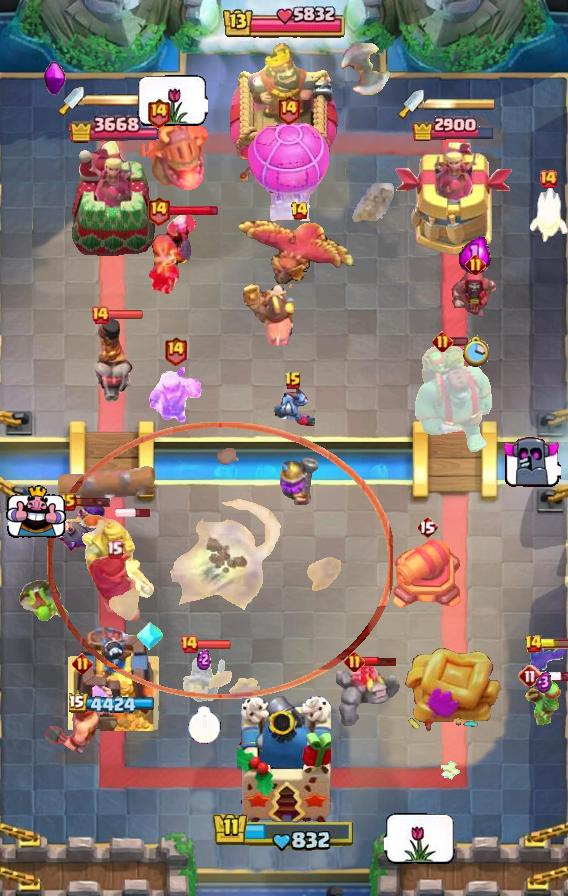axe: (328, 43, 394, 95)
bar: (168, 204, 219, 217), (115, 507, 152, 519), (74, 496, 111, 508), (362, 656, 398, 667), (196, 639, 232, 650), (108, 309, 144, 320), (540, 671, 568, 682), (540, 639, 568, 649), (450, 336, 469, 347)
bar-level: (163, 335, 188, 366), (146, 195, 171, 226), (146, 97, 171, 128), (276, 94, 301, 125), (518, 664, 542, 688), (416, 515, 438, 539), (72, 653, 93, 674), (344, 651, 365, 672), (432, 331, 453, 352), (465, 254, 486, 275), (179, 634, 199, 654), (90, 305, 110, 325), (538, 169, 558, 189), (524, 634, 543, 654), (290, 201, 309, 221), (284, 371, 302, 391), (106, 540, 123, 559), (60, 493, 76, 511)
barbarian-evolution: (148, 367, 203, 424)
bat-evolution: (522, 644, 568, 682)
bomber-evolution: (57, 500, 107, 554)
clock: (188, 706, 221, 744), (462, 335, 489, 368)
dagger-duchess-tower: (394, 142, 513, 256), (70, 138, 158, 256)
dagger-duchess-tower-bar: (424, 97, 496, 111), (84, 93, 156, 107)
dirt: (352, 183, 394, 229)
elixir: (459, 235, 491, 274), (536, 671, 552, 693), (197, 648, 211, 670)
emote: (384, 812, 456, 864), (136, 74, 208, 126), (6, 485, 66, 539), (501, 435, 561, 488)
evolution-symbol: (42, 61, 68, 95)
goblin-ball: (17, 577, 71, 625)
golemite: (335, 665, 401, 727)
guard: (181, 649, 227, 705)
ice-spirit: (528, 185, 568, 243)
ice-spirit-evolution-symbol: (135, 621, 165, 651)
king-tower: (230, 43, 338, 181), (237, 696, 331, 826)
king-tower-bar: (212, 811, 356, 853), (221, 3, 347, 43)
lumberjack: (45, 677, 119, 759)
minion: (271, 389, 315, 427)
musketeer: (280, 443, 318, 505)
night-witch: (148, 212, 198, 298)
queen-tower: (68, 627, 160, 731)
ram-rider: (90, 316, 134, 402)
spear-goblin: (523, 679, 565, 727)
the-log: (57, 463, 159, 503)
tower-bar: (69, 112, 159, 147), (411, 114, 496, 141), (69, 693, 159, 716)
wizard: (451, 268, 499, 320)
